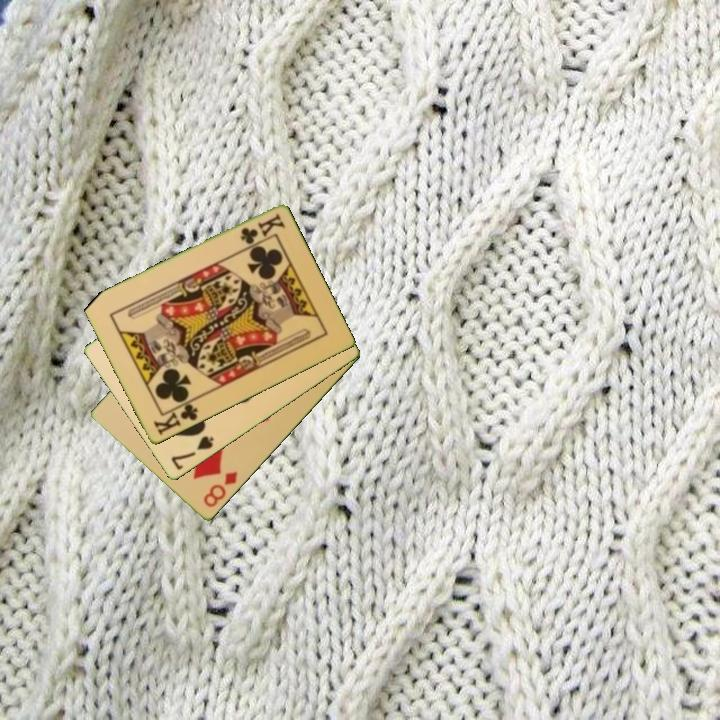7s: (167, 432, 217, 474)
8d: (200, 468, 241, 511)
Kc: (150, 397, 201, 439), (237, 210, 287, 248)
